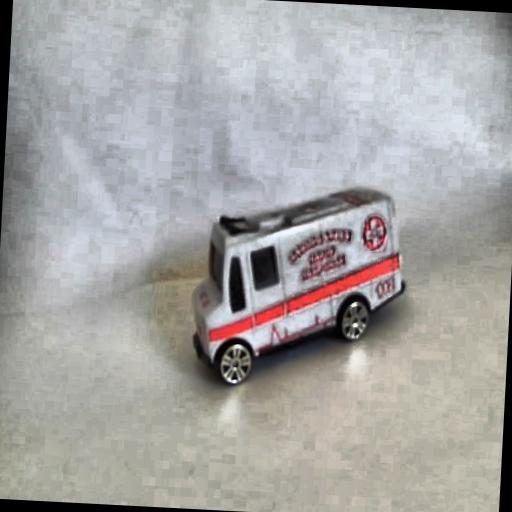ambulance: (188, 176, 410, 394)
